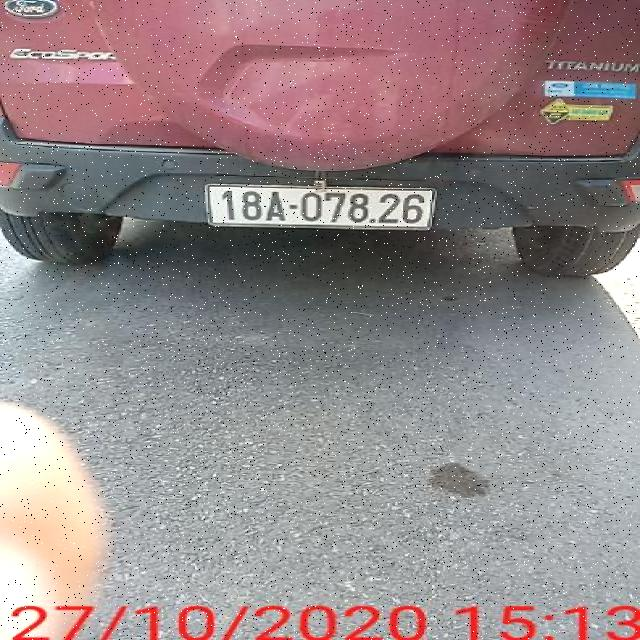0: (299, 190, 327, 224)
1: (218, 189, 238, 221)
2: (375, 192, 401, 224)
6: (401, 193, 428, 225)
7: (323, 192, 348, 224)
8: (240, 190, 264, 222), (346, 193, 370, 223)
A: (262, 192, 287, 222)
